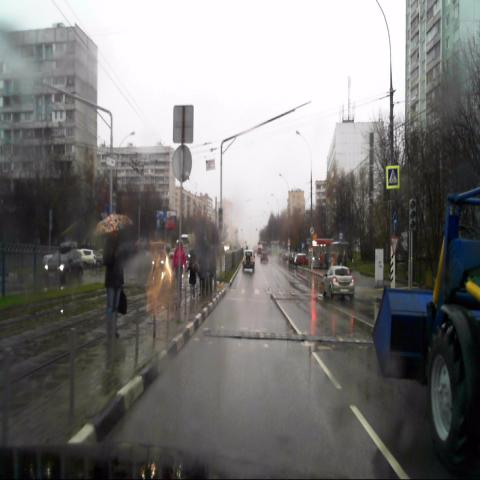2_4: (390, 235, 398, 254)
5_19_1: (386, 166, 400, 190)
